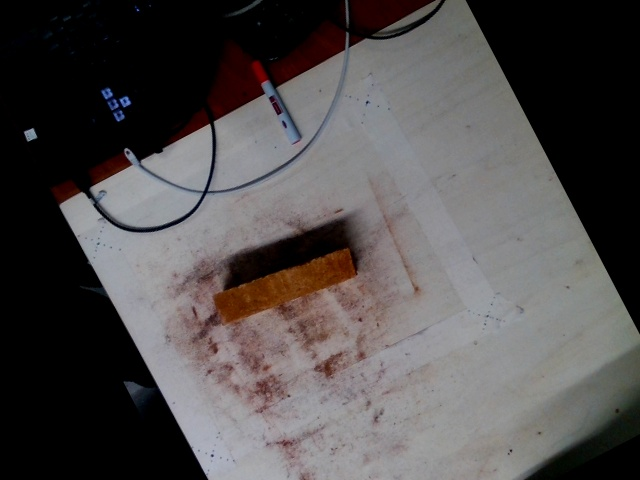brick-side: (212, 251, 354, 322)
